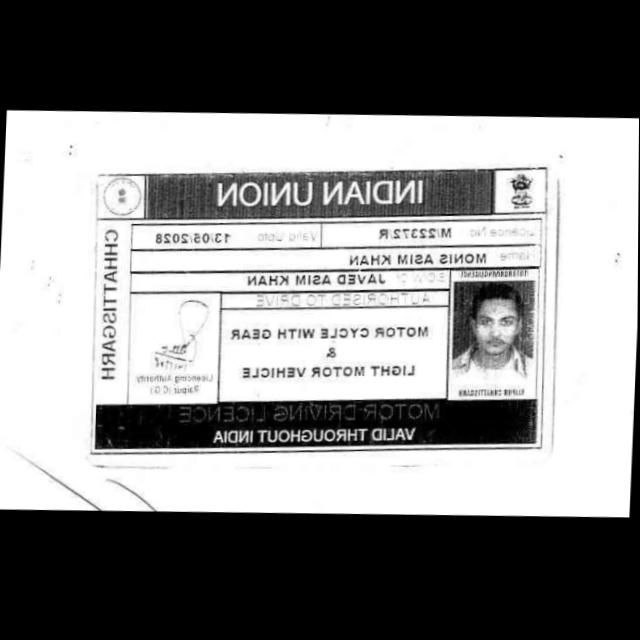driving_licence: (77, 130, 572, 493)
